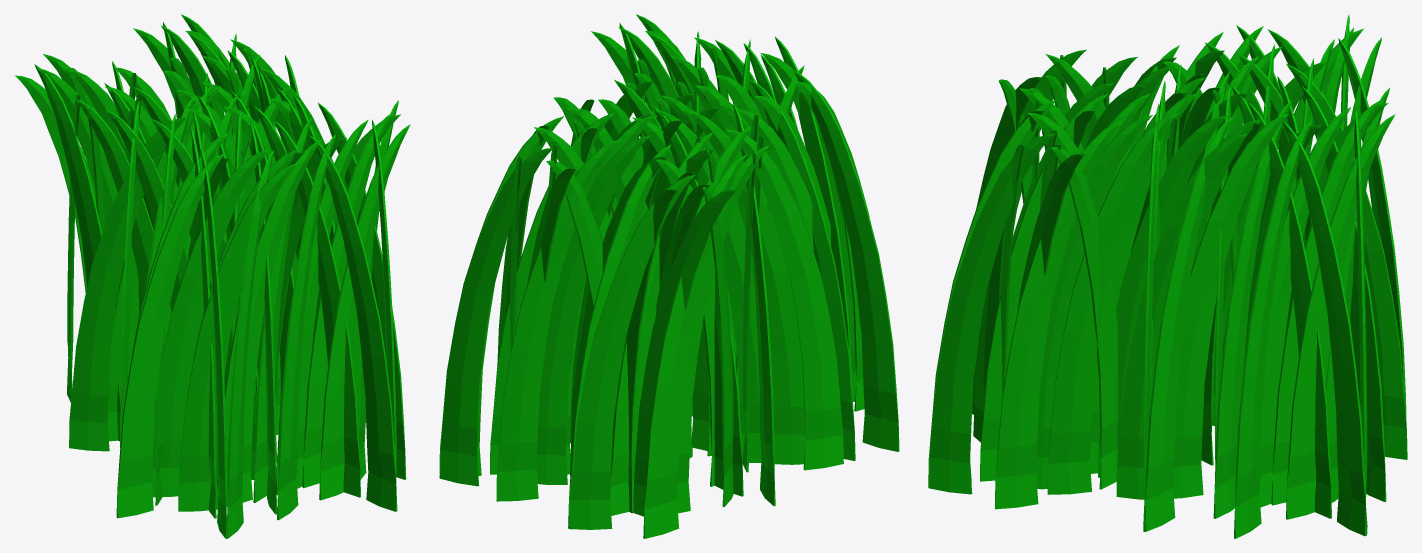
Rendered from grass47.fbx.
The picture shows the model from 3 angles, left to right: view 1: azimuth 30°, elevation 25°; view 2: azimuth 150°, elevation 25°; view 3: azimuth 270°, elevation 25°; orthographic projection. The views are drawn at different scales.
Parts seen in each view (by area): view 1: Plane; view 2: Plane; view 3: Plane.
Boxes of the visible parts, left/top/right/bottom form: Plane: left=14, top=14, right=410, bottom=538; Plane: left=439, top=14, right=899, bottom=538; Plane: left=928, top=14, right=1407, bottom=538.
Size of the model in its own units: 12.32 by 15.01 by 12.88.
